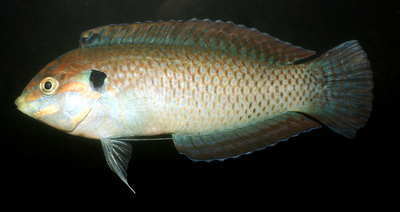fish: (15, 18, 372, 194)
